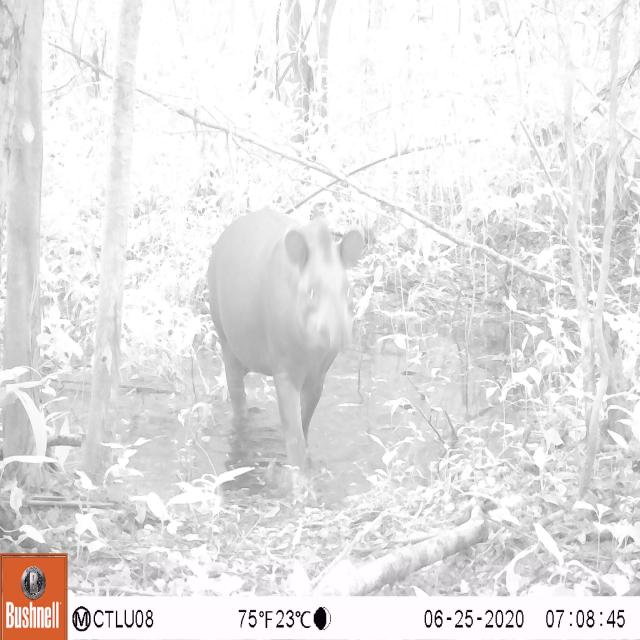Lowland Tapir: (204, 191, 374, 492)
